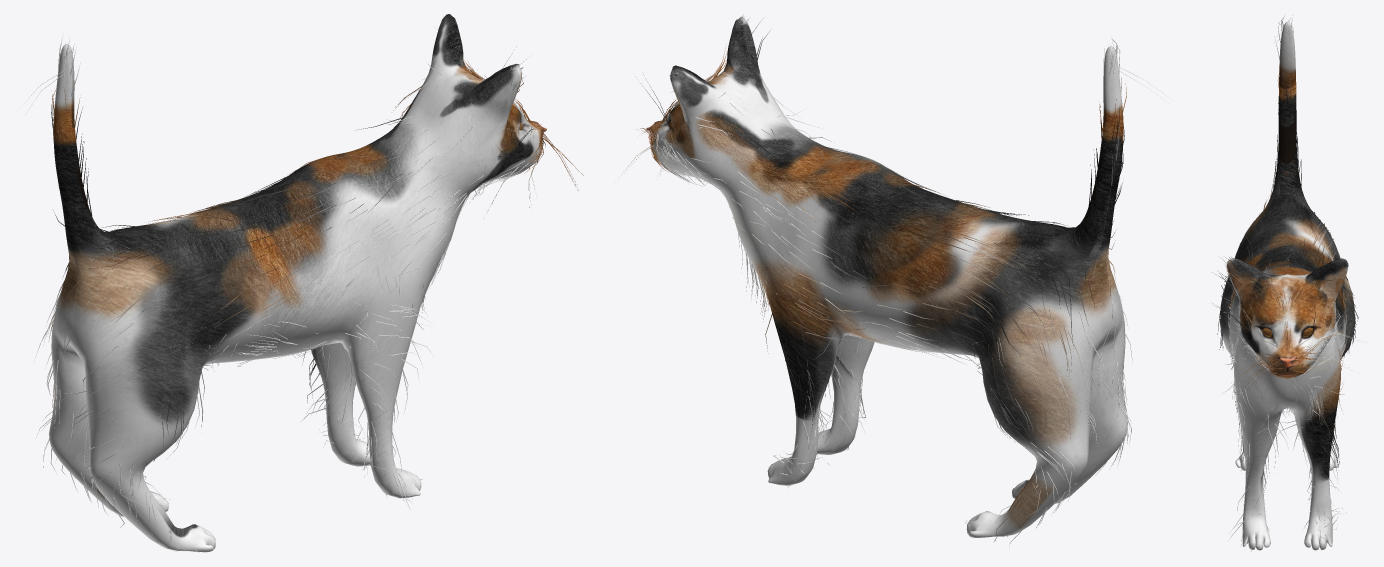
The model's file is cat-v1.glb.
3 views of the same model, side by side, from view 1: azimuth 30°, elevation 25°; view 2: azimuth 150°, elevation 25°; view 3: azimuth 270°, elevation 25° (orthographic). The views are drawn at different scales.
Parts seen in each view (by area): view 1: CalicoCatBody, CalicoCatOriginalGroom; view 2: CalicoCatBody, CalicoCatOriginalGroom; view 3: CalicoCatBody, CalicoCatOriginalGroom.
Boxes of the visible parts, bbox=[...] form: CalicoCatBody: bbox=[49, 14, 546, 552]; CalicoCatOriginalGroom: bbox=[17, 28, 583, 552]; CalicoCatBody: bbox=[646, 17, 1127, 537]; CalicoCatOriginalGroom: bbox=[618, 16, 1164, 549]; CalicoCatBody: bbox=[1220, 21, 1355, 550]; CalicoCatOriginalGroom: bbox=[1213, 16, 1359, 552].
Bounding box in the file's own units: 0.6705 × 0.6297 × 0.2229.
Materials: 3 (3 with a texture image).
